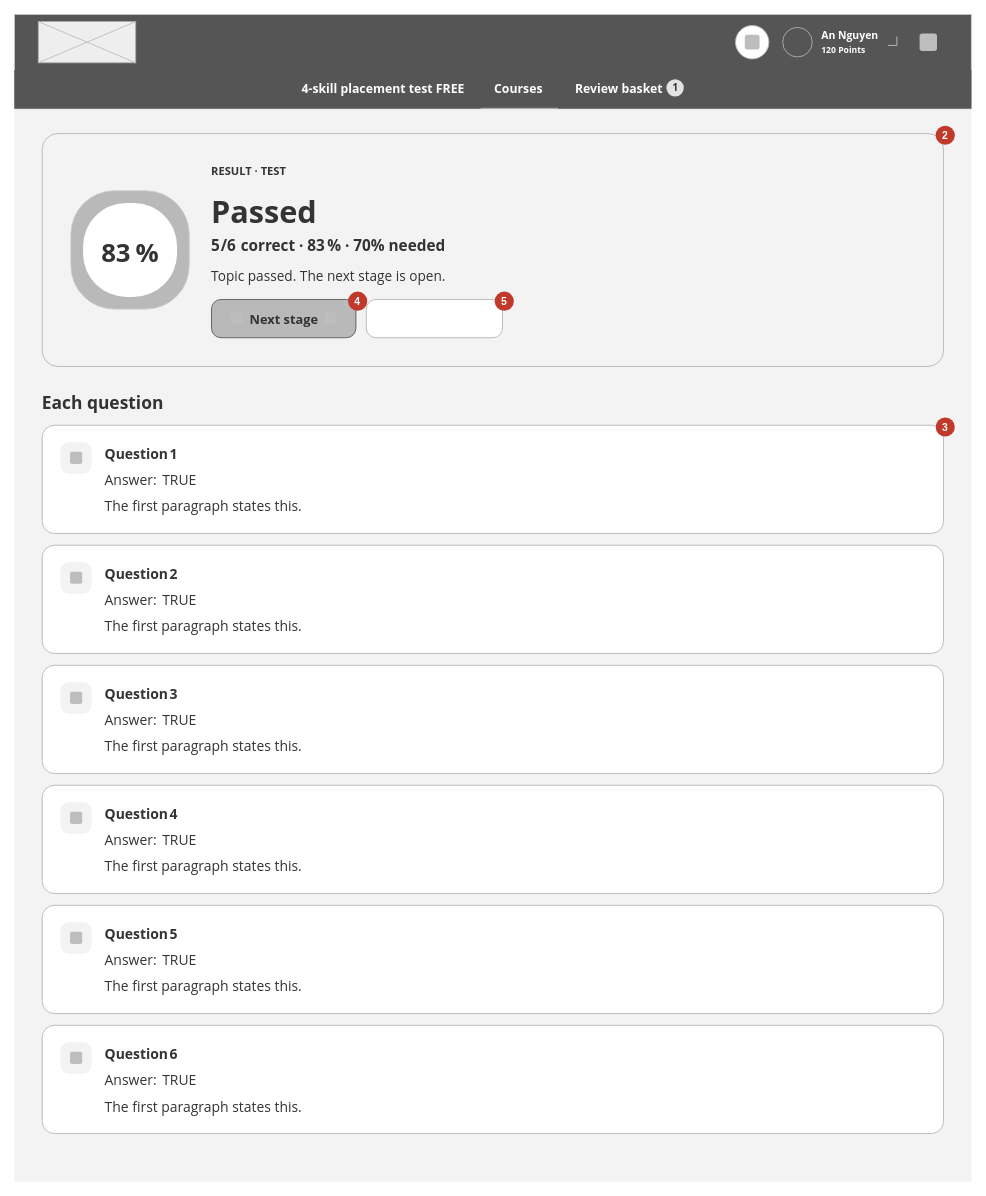
The diagram is 986 pixels wide and 1196 high, and some of its shapes have lost their labels. The shapes that lost their labels are listed below. From the top down, each one's centre as x and y in pixels, then its label:
At (797,42): "AN".
At (434,318): "View course list".
